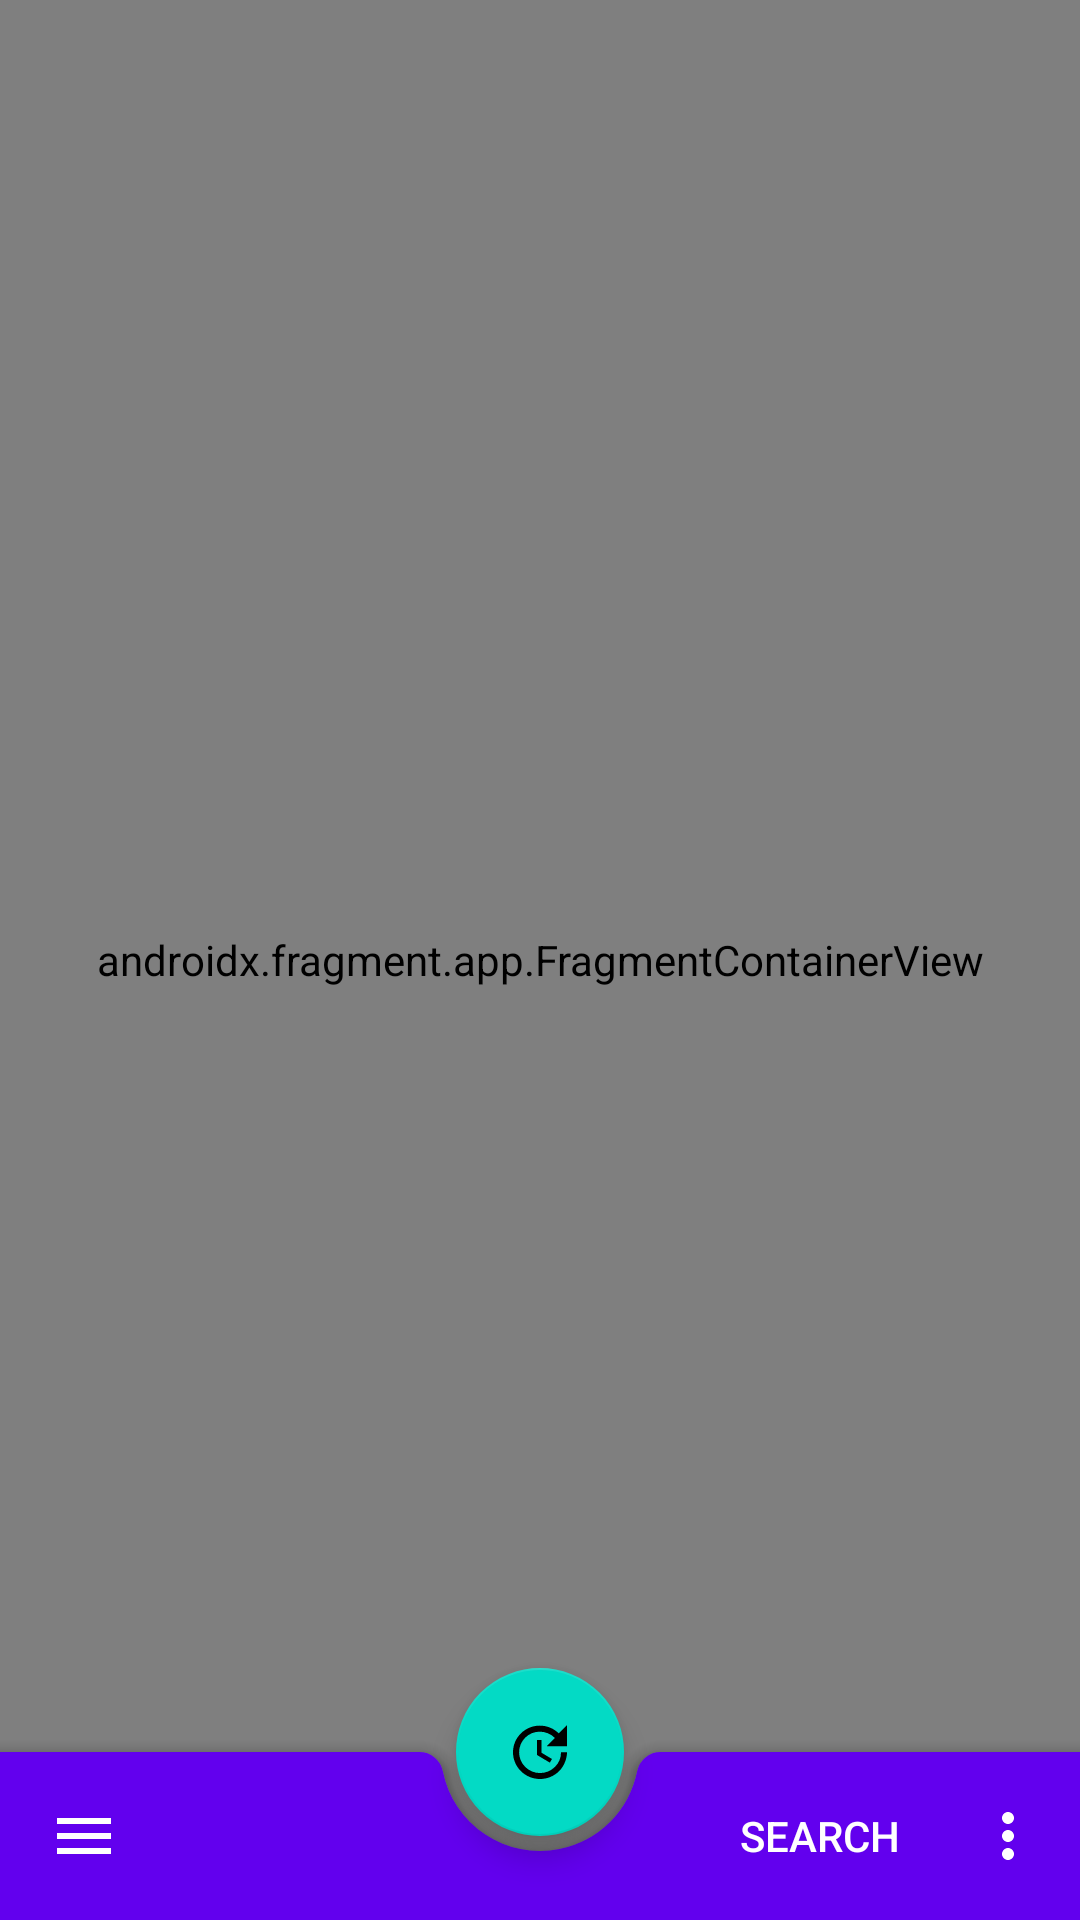

Screen size 1080px x 1920px. Icon name, then its center in pixels as point (x, y):
update: point (540, 1752)
